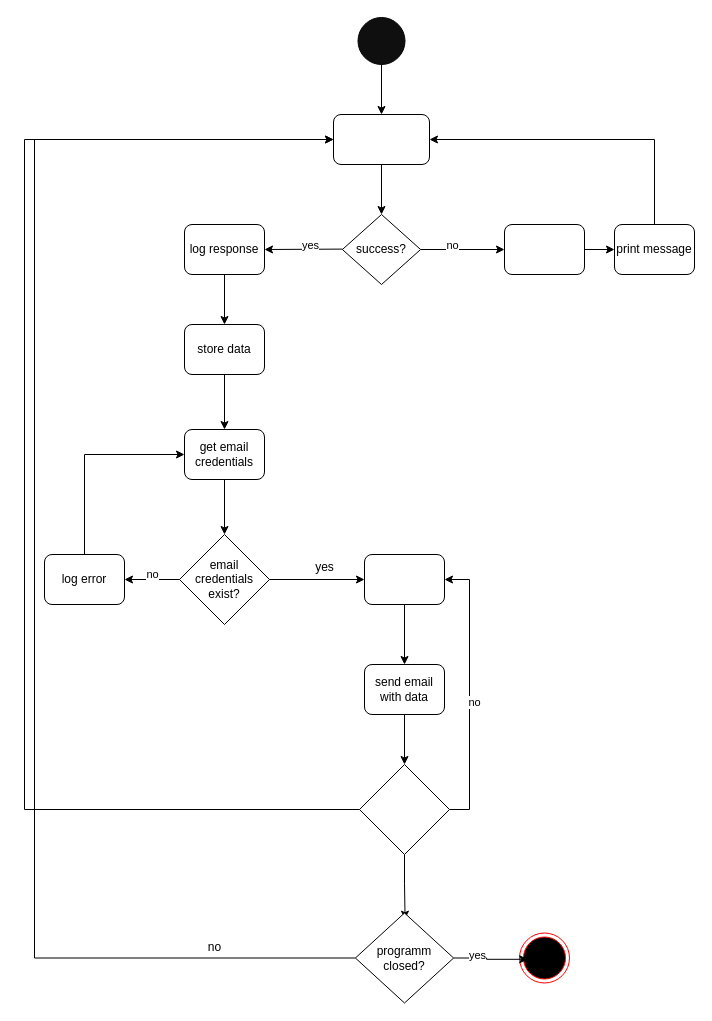
The diagram is 712 pixels wide and 1021 high, and some of its shapes have lost their labels. Here are the shapes that lost their labels. From the top down, the centre of each, then its label:
At point (381, 139): "API get Data".
At point (544, 249): "log the error".
At point (404, 579): "prepare email".
At point (404, 809): "send succcessful?".
